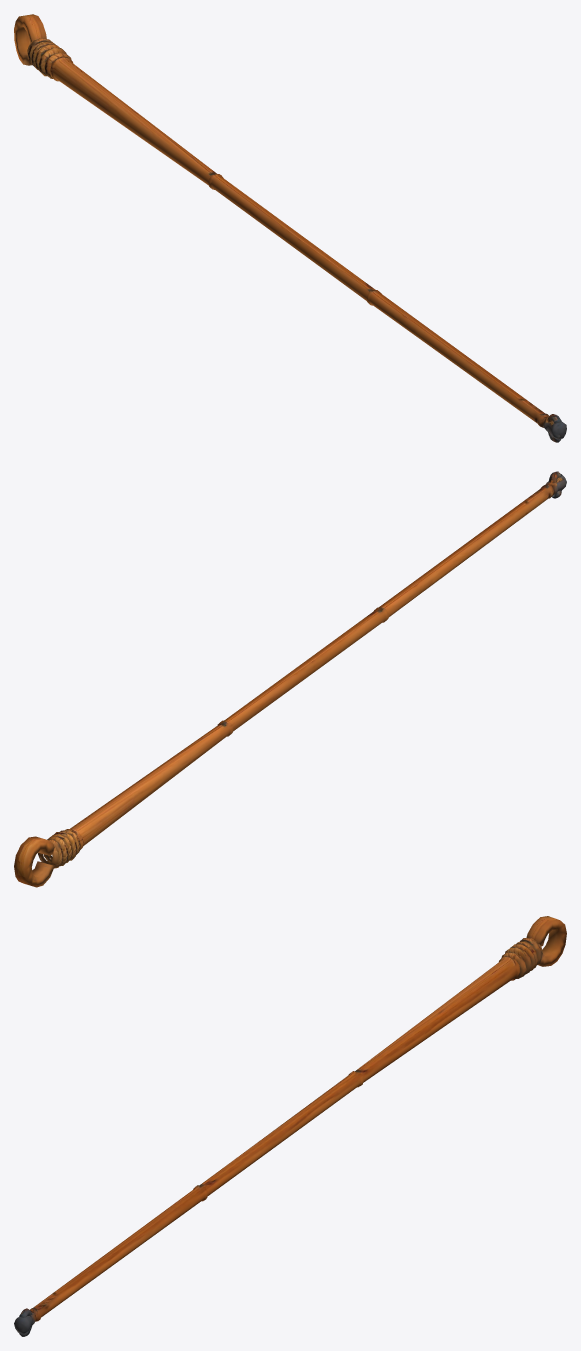
The model's file is gaff.glb.
3 views of the same model, one above another, from view 1: azimuth 30°, elevation 25°; view 2: azimuth 150°, elevation 25°; view 3: azimuth 330°, elevation 25° (orthographic).
Visible parts, largest first — view 1: gaff; view 2: gaff; view 3: gaff.
Boxes of the visible parts, left/top/right/bottom form: gaff: left=14, top=14, right=566, bottom=442; gaff: left=14, top=471, right=566, bottom=887; gaff: left=14, top=916, right=566, bottom=1336.
Size of the model in its own units: 0.106 by 0.16 by 3.5.
1 material, 1 textured.
